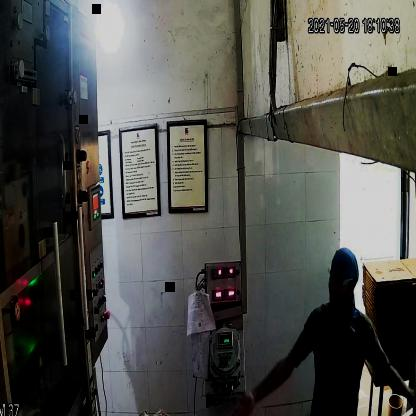goggles: (327, 268, 356, 291)
